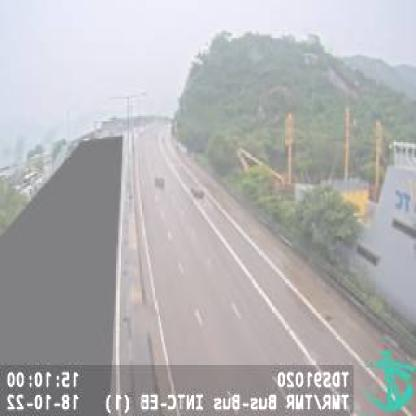Car: (192, 183, 206, 201), (155, 173, 166, 189)
